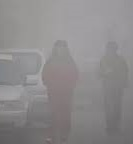person: (37, 39, 80, 142), (93, 41, 130, 133)
